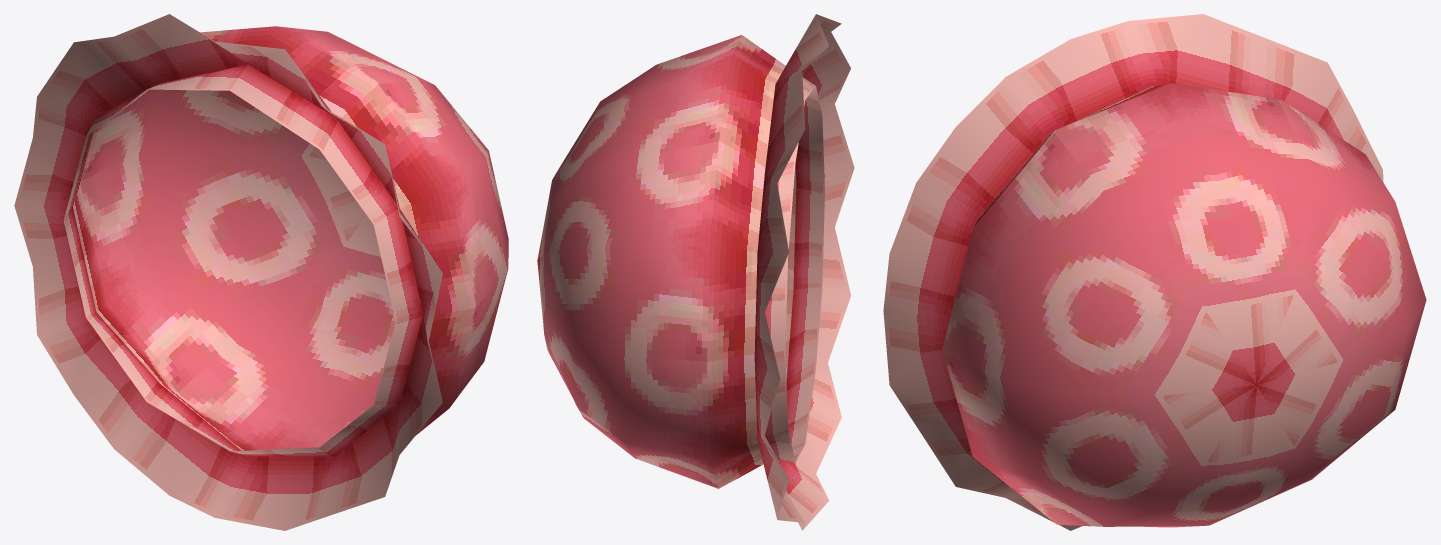
Rendered from cap_showercap.dae.
3 views of the same model, side by side, from view 1: azimuth 30°, elevation 25°; view 2: azimuth 150°, elevation 25°; view 3: azimuth 270°, elevation 25° (orthographic). The views are drawn at different scales.
Visible parts, largest first — view 1: cap_showercap; view 2: cap_showercap; view 3: cap_showercap.
Boxes of the visible parts, x1,y1,x2,y2 form: cap_showercap: (14, 14, 508, 530); cap_showercap: (537, 14, 854, 530); cap_showercap: (883, 14, 1426, 530).
Size of the model in its own units: 20.77 by 28.24 by 28.26.
1 material, 1 textured.
